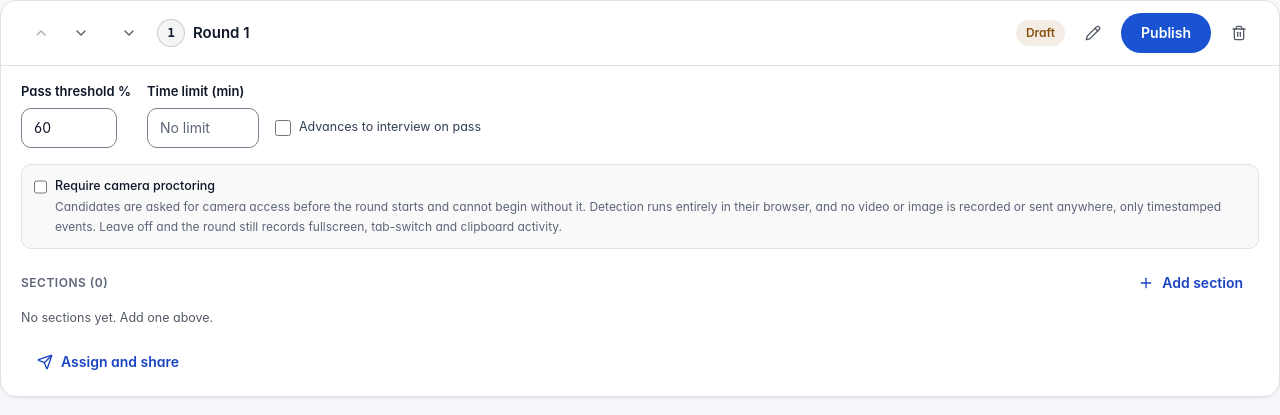
Test: round panel › puts the saved pass mark back when a save is refused (E4)
The width and height of the screenshot is (1280, 415).
Replace the text in the number field labelled "Pass threshold" with "80" at (69, 128), box [21, 108, 117, 148]
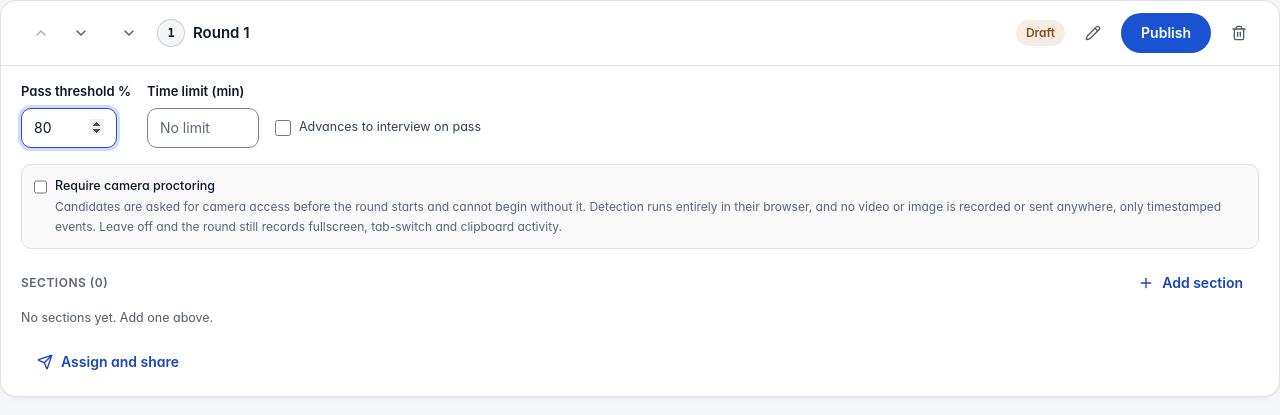
Press Tab
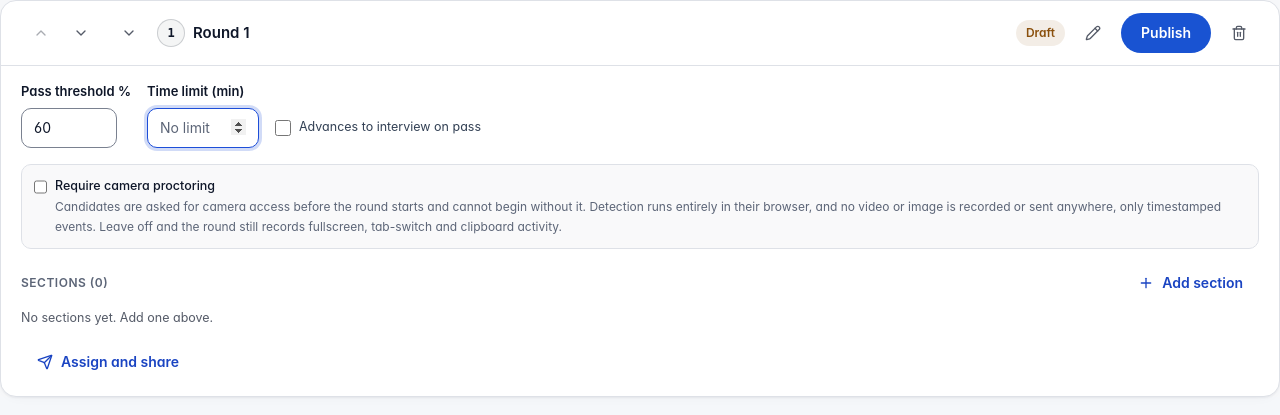
Now the number field labelled "Pass threshold" holds "60", box [21, 108, 117, 148]
